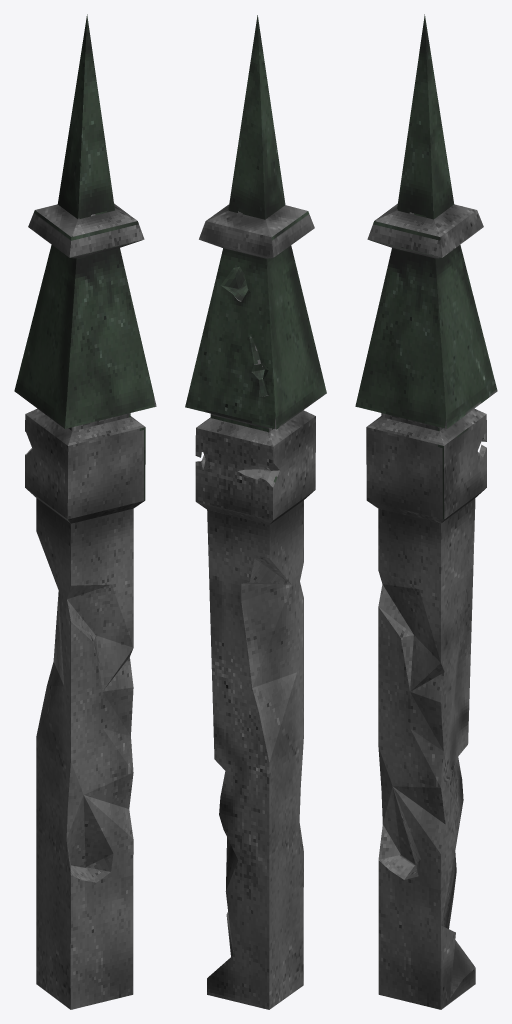
Rendered from pointedpillar_wt.fbx.
3 views of the same model, side by side, from view 1: azimuth 30°, elevation 25°; view 2: azimuth 150°, elevation 25°; view 3: azimuth 330°, elevation 25° (orthographic).
Visible parts, largest first — view 1: Cube.031; view 2: Cube.031; view 3: Cube.031.
Boxes of the visible parts, x1,y1,x2,y2 form: Cube.031: (14,14,156,1009); Cube.031: (185,15,326,1009); Cube.031: (355,14,497,1009).
Size of the model in its own units: 966 by 9844 by 925.
